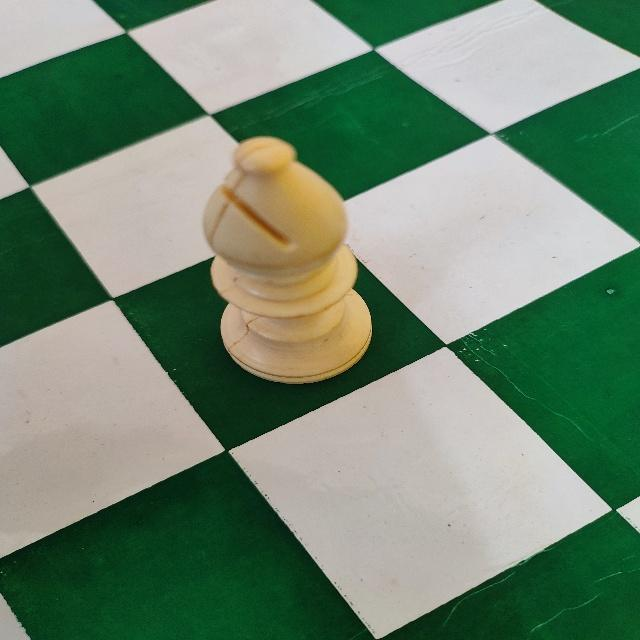Bishop: (198, 137, 378, 387)
